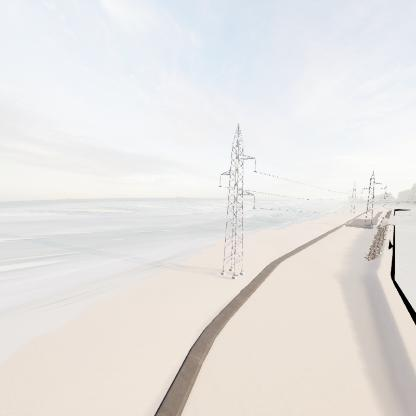tower: (226, 123, 267, 287)
